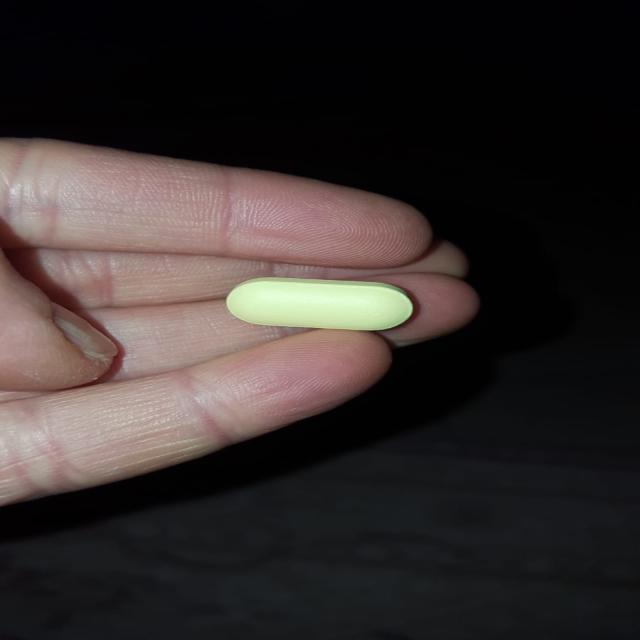pills: (183, 256, 454, 346)
